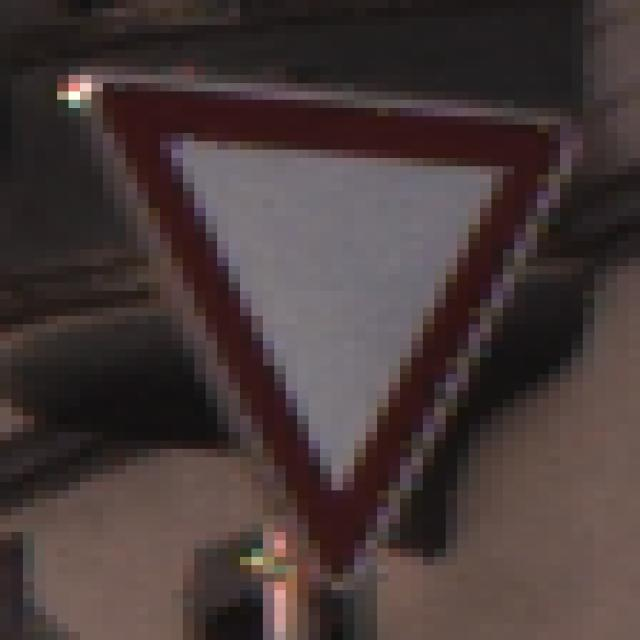Give Way: (70, 51, 573, 583)
